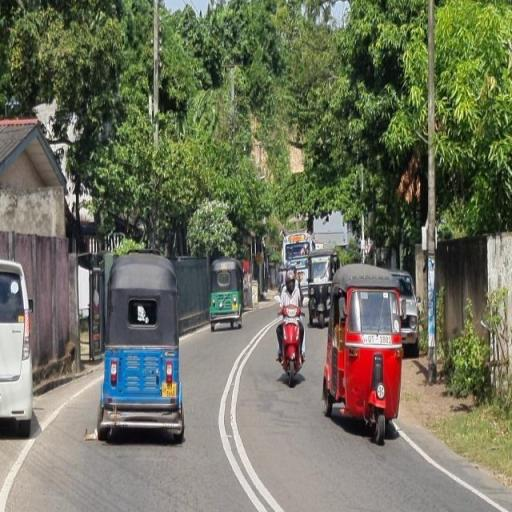double_white_line: (216, 316, 282, 511), (391, 416, 508, 512)
